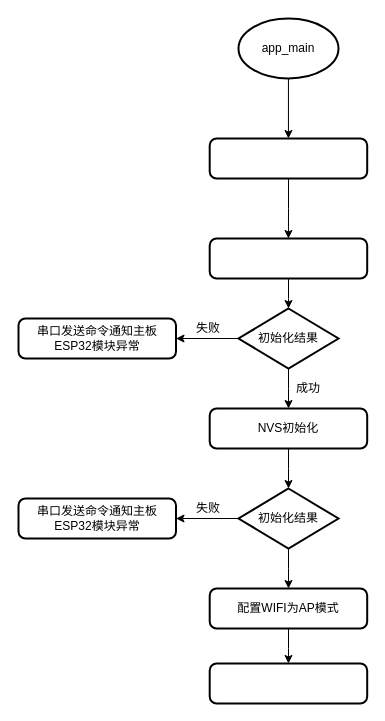
The diagram is 385 pixels wide and 721 high, and some of its shapes have lost their labels. Here are the shapes that lost their labels. From the top down, the centre of each, then its label:
the point at 288,158: 启动串口任务
the point at 288,258: SPIFFS初始化
the point at 288,683: 启动HTTP服务器
